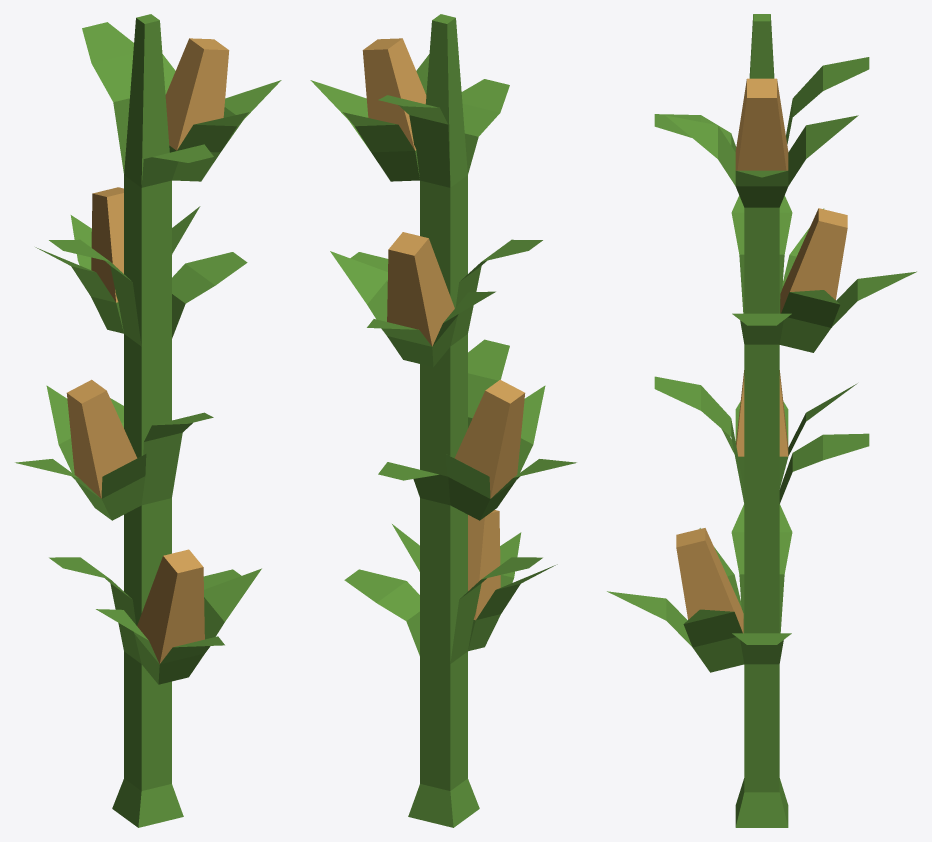
The model's file is crops_cornStageD.glb.
3 renders of one model, left to right at view 1: azimuth 30°, elevation 25°; view 2: azimuth 150°, elevation 25°; view 3: azimuth 270°, elevation 25°, orthographic.
Parts seen in each view (by area): view 1: crops_cornStageD; view 2: crops_cornStageD; view 3: crops_cornStageD.
Boxes of the visible parts, x1,y1,x2,y2 form: crops_cornStageD: [15, 14, 281, 827]; crops_cornStageD: [310, 14, 576, 827]; crops_cornStageD: [607, 14, 916, 827].
Size of the model in its own units: 0.4416 by 1.25 by 0.4416.
